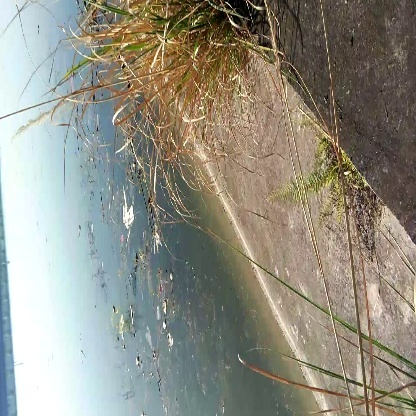plastic-bag: (116, 200, 139, 236)
